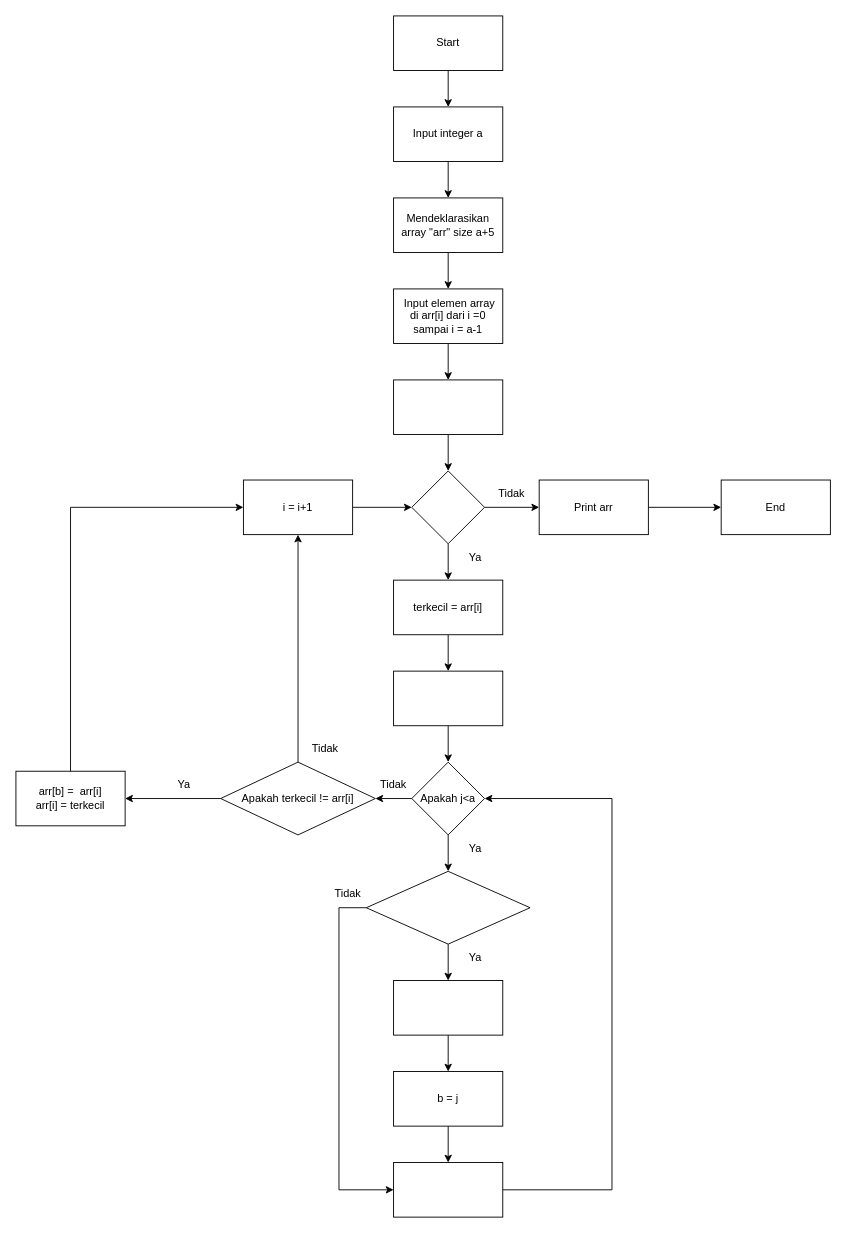
This 846x1233 diagram has some shape labels left out. Here are the shapes that lost their labels. From the top down, the centre of each, then its label:
At (x=448, y=407): "i = 0".
At (x=448, y=507): "Apakah i<a".
At (x=448, y=698): "j = i".
At (x=447, y=907): "Apakah terkecil > arr[j]".
At (x=448, y=1007): "terkecil = arr[j]".
At (x=448, y=1189): "j = j+1".
